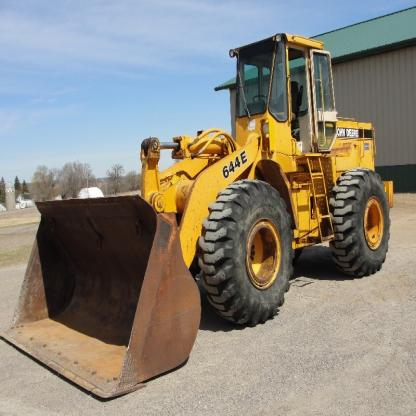bull_dozer/loader/grader: (3, 24, 388, 398)
